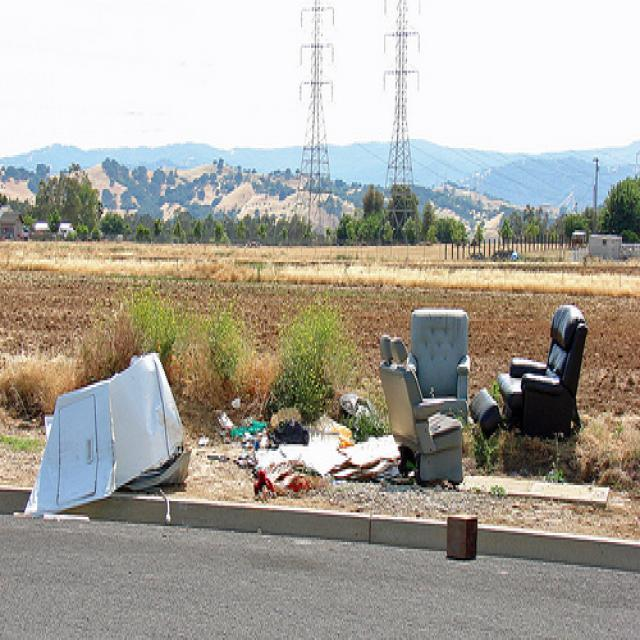plastic: (209, 381, 404, 503)
